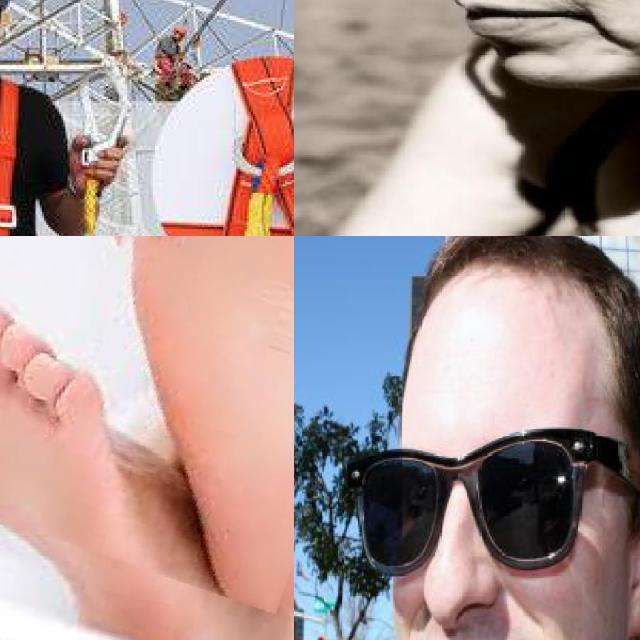Barefoots: (0, 277, 249, 640), (114, 236, 294, 626)
face_nomask: (363, 429, 583, 640), (378, 0, 640, 63)
glasses: (346, 411, 640, 589)
head_nohelmet: (383, 236, 640, 358)
